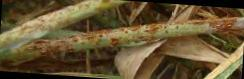Wheat: (32, 30, 125, 57), (127, 24, 173, 42)
